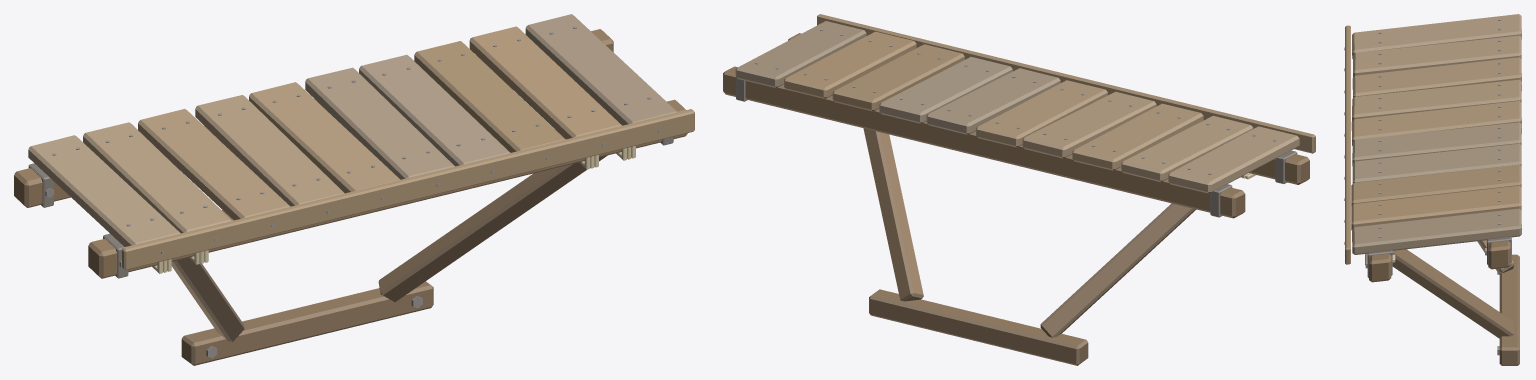
Rendered from platform_braced_300.glb.
The picture shows the model from 3 angles, left to right: view 1: azimuth 30°, elevation 25°; view 2: azimuth 150°, elevation 25°; view 3: azimuth 270°, elevation 25°; orthographic projection. The views are drawn at different scales.
Visible parts, largest first — view 1: Wood, Iron, Rope; view 2: Wood, Iron; view 3: Wood, Iron.
Part boxes in pixels (x1=…): Wood: x1=14, y1=14, x2=694, y2=365; Iron: x1=28, y1=26, x2=673, y2=358; Rope: x1=152, y1=146, x2=635, y2=273; Wood: x1=723, y1=14, x2=1315, y2=365; Iron: x1=736, y1=28, x2=1297, y2=217; Wood: x1=1345, y1=14, x2=1521, y2=365; Iron: x1=1344, y1=19, x2=1511, y2=355.
Bounding box in the file's own units: 3.2 × 1.3 × 1.04.
